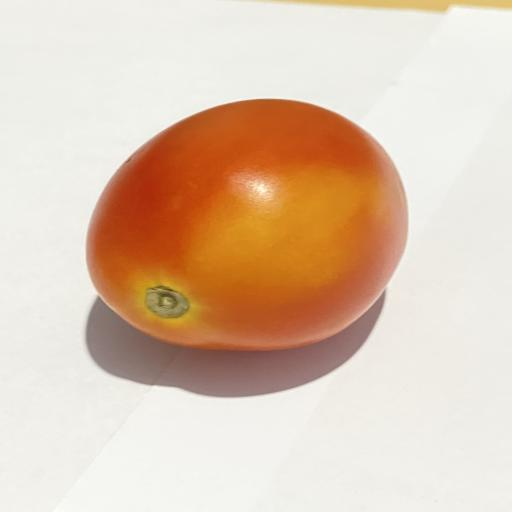ripe: (87, 99, 408, 350)
